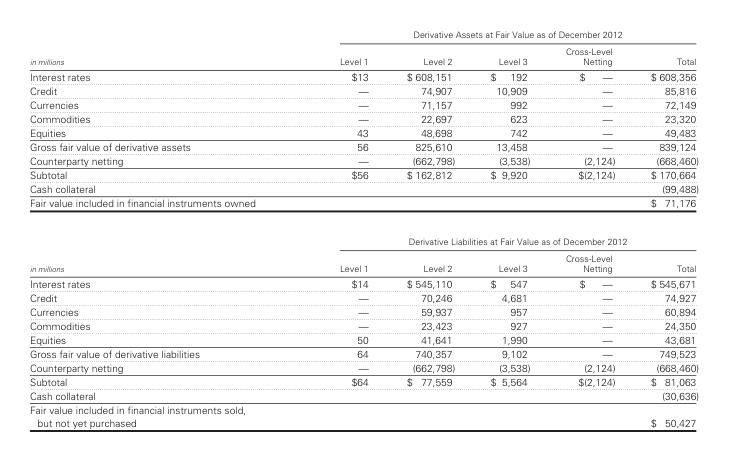table: (28, 28, 698, 428)
table column: (28, 28, 296, 428), (296, 28, 386, 428), (386, 28, 471, 428), (547, 28, 632, 428), (471, 28, 547, 428), (632, 28, 698, 428)
table column header: (28, 28, 698, 68)
table row: (28, 195, 698, 222), (28, 222, 698, 249), (28, 42, 698, 68), (28, 402, 698, 428), (28, 249, 698, 274), (28, 274, 698, 290), (28, 68, 698, 83), (28, 28, 698, 42), (28, 83, 698, 97), (28, 97, 698, 111), (28, 111, 698, 125), (28, 125, 698, 139), (28, 139, 698, 153), (28, 153, 698, 167), (28, 167, 698, 181), (28, 181, 698, 195), (28, 290, 698, 304), (28, 304, 698, 318), (28, 318, 698, 332), (28, 332, 698, 346), (28, 346, 698, 360), (28, 360, 698, 374), (28, 374, 698, 388), (28, 388, 698, 402)
table spanning cell: (28, 195, 296, 249), (296, 222, 698, 249), (28, 28, 296, 68), (296, 28, 698, 42)
